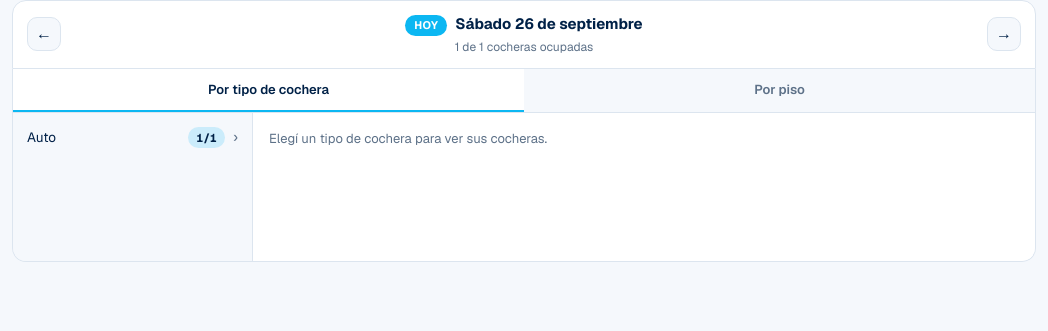
OcupacionCocheras: moverse entre días › el día siguiente muestra sus propias reservas
The width and height of the screenshot is (1048, 331).
Click the button "Auto 1/1 ›" at (132, 137), box [13, 113, 252, 162]
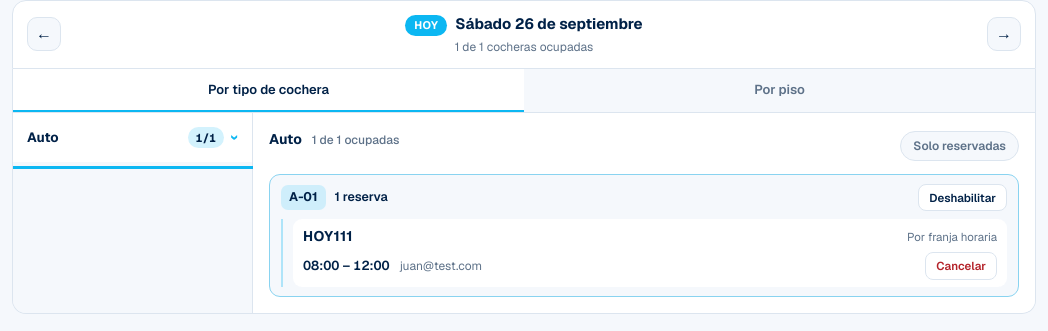
Expected: the text "HOY111" is shown, [303, 226, 353, 247]
Click the button named "día siguiente" at (1004, 34), box [987, 17, 1021, 51]
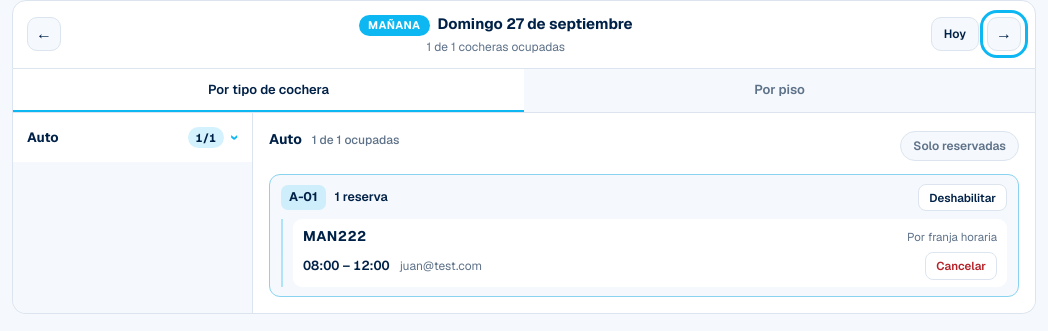
Expected: the text "MAN222" is shown, [303, 226, 367, 247]
Expected: the text "HOY111" is gone
Expected: the text "Mañana" is shown, [359, 15, 430, 36]
